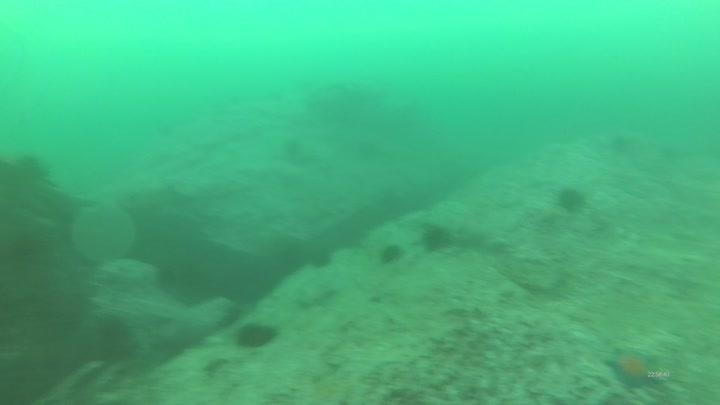echinus: (89, 313, 138, 366), (232, 318, 280, 353), (418, 221, 454, 255), (553, 183, 589, 215), (603, 128, 639, 160), (272, 130, 308, 162), (306, 245, 336, 272), (376, 241, 406, 267)
starfish: (602, 345, 662, 391)
